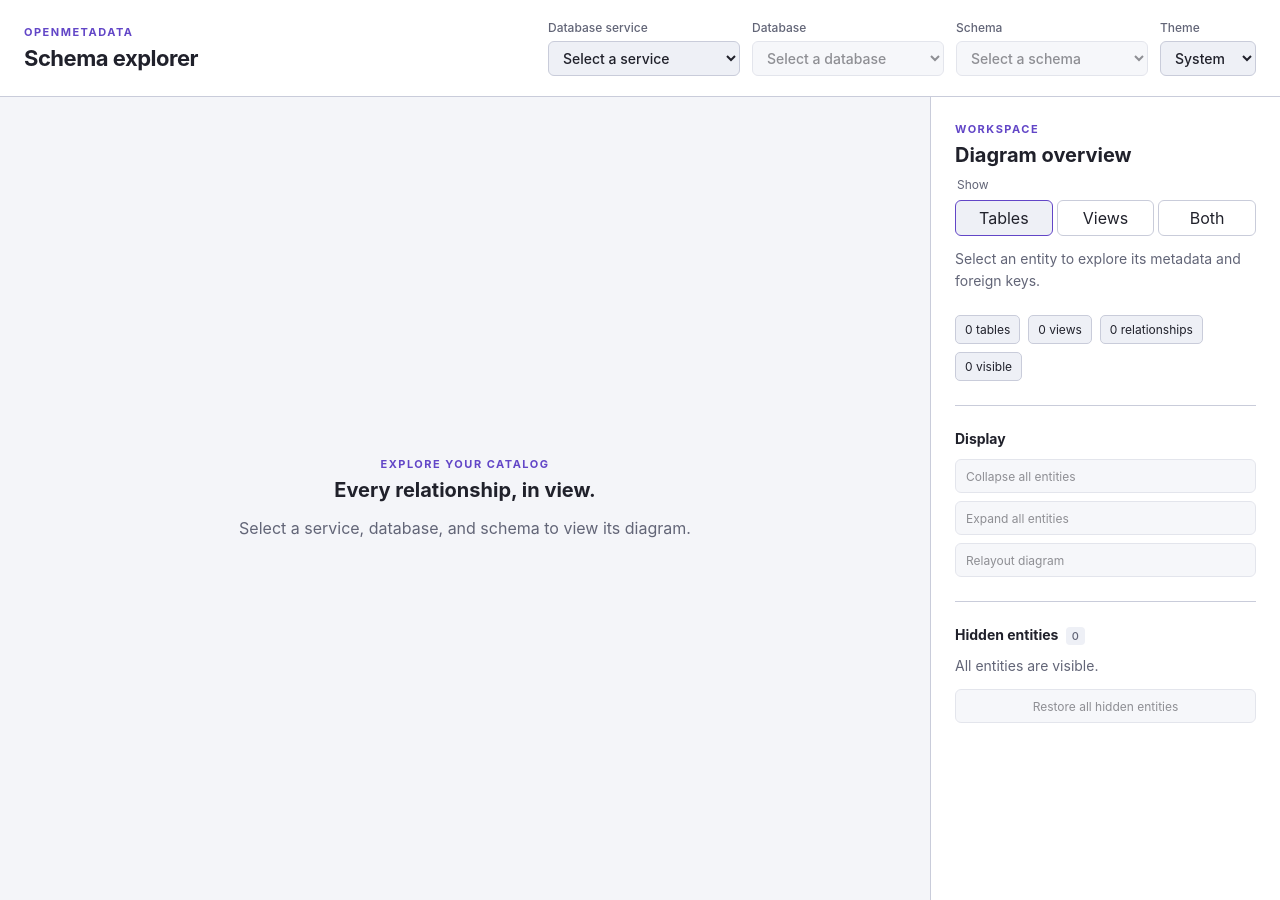
App graph loading › labels fallback sample data and shows graph warnings
Select "MSSQL Desktop" in the dropdown labelled "Database service": (644, 58) left=548, top=41, right=740, bottom=76
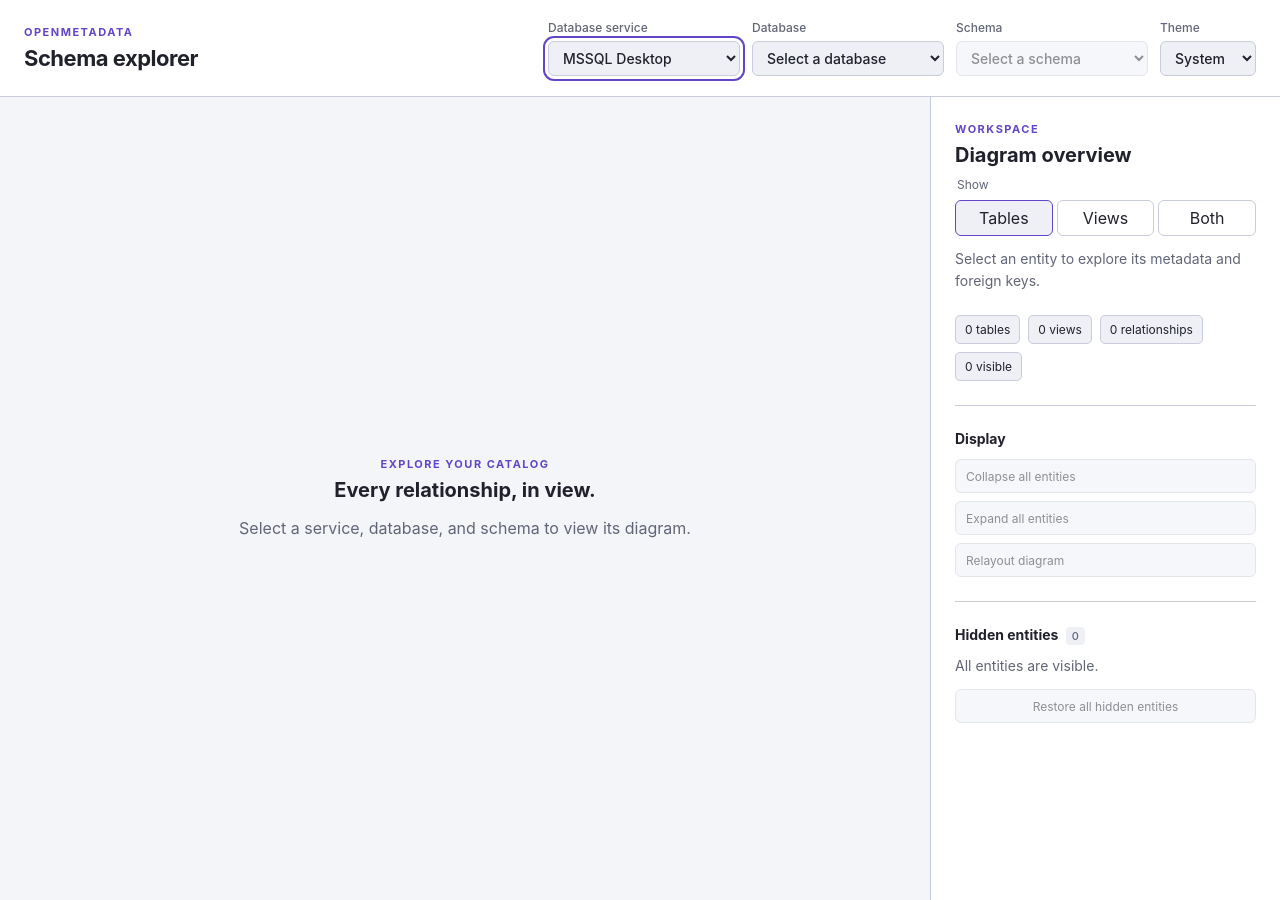
Result: the dropdown labelled "Database" is enabled
Select "AdventureWorks2019" in the dropdown labelled "Database": (848, 58) left=752, top=41, right=944, bottom=76
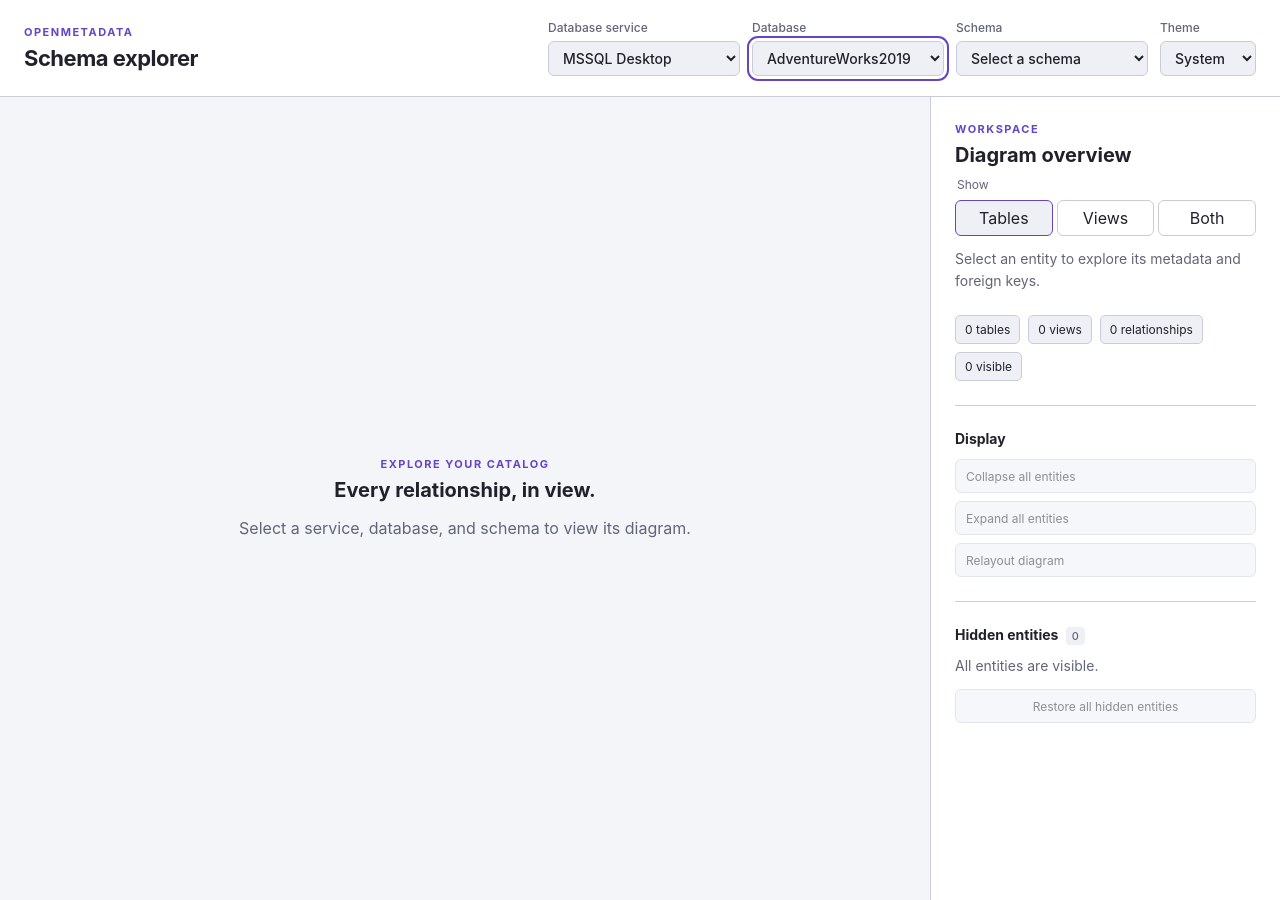
Result: the dropdown labelled "Schema" is enabled
Select "Person" in the dropdown labelled "Schema": (1052, 58) left=956, top=41, right=1148, bottom=76
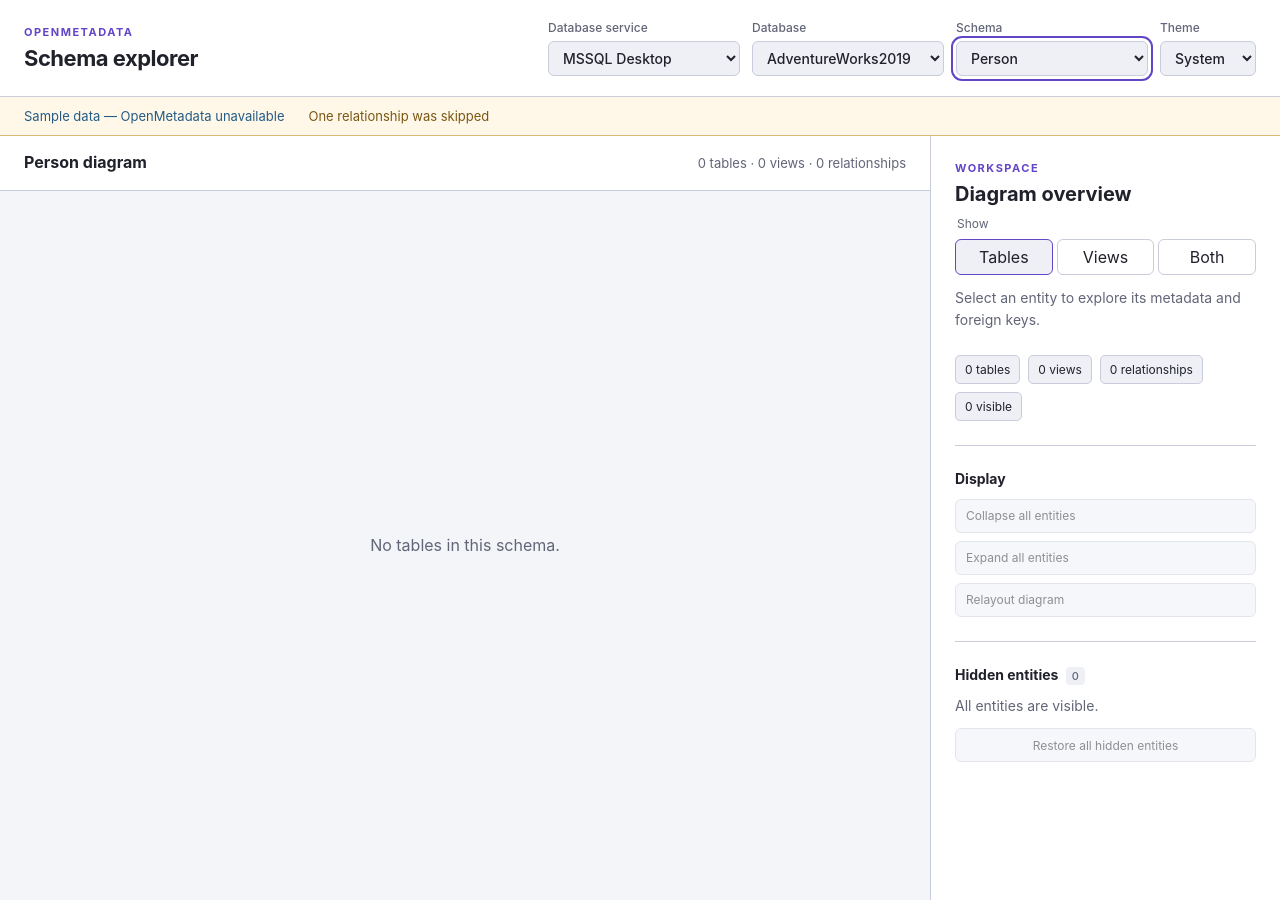
Result: the text "Sample data — OpenMetadata unavailable" is shown at left=24, top=106, right=284, bottom=126
Result: the text "One relationship was skipped" is shown at left=308, top=106, right=489, bottom=126
Result: the element named "Diagram status" is shown at left=0, top=97, right=1279, bottom=136
